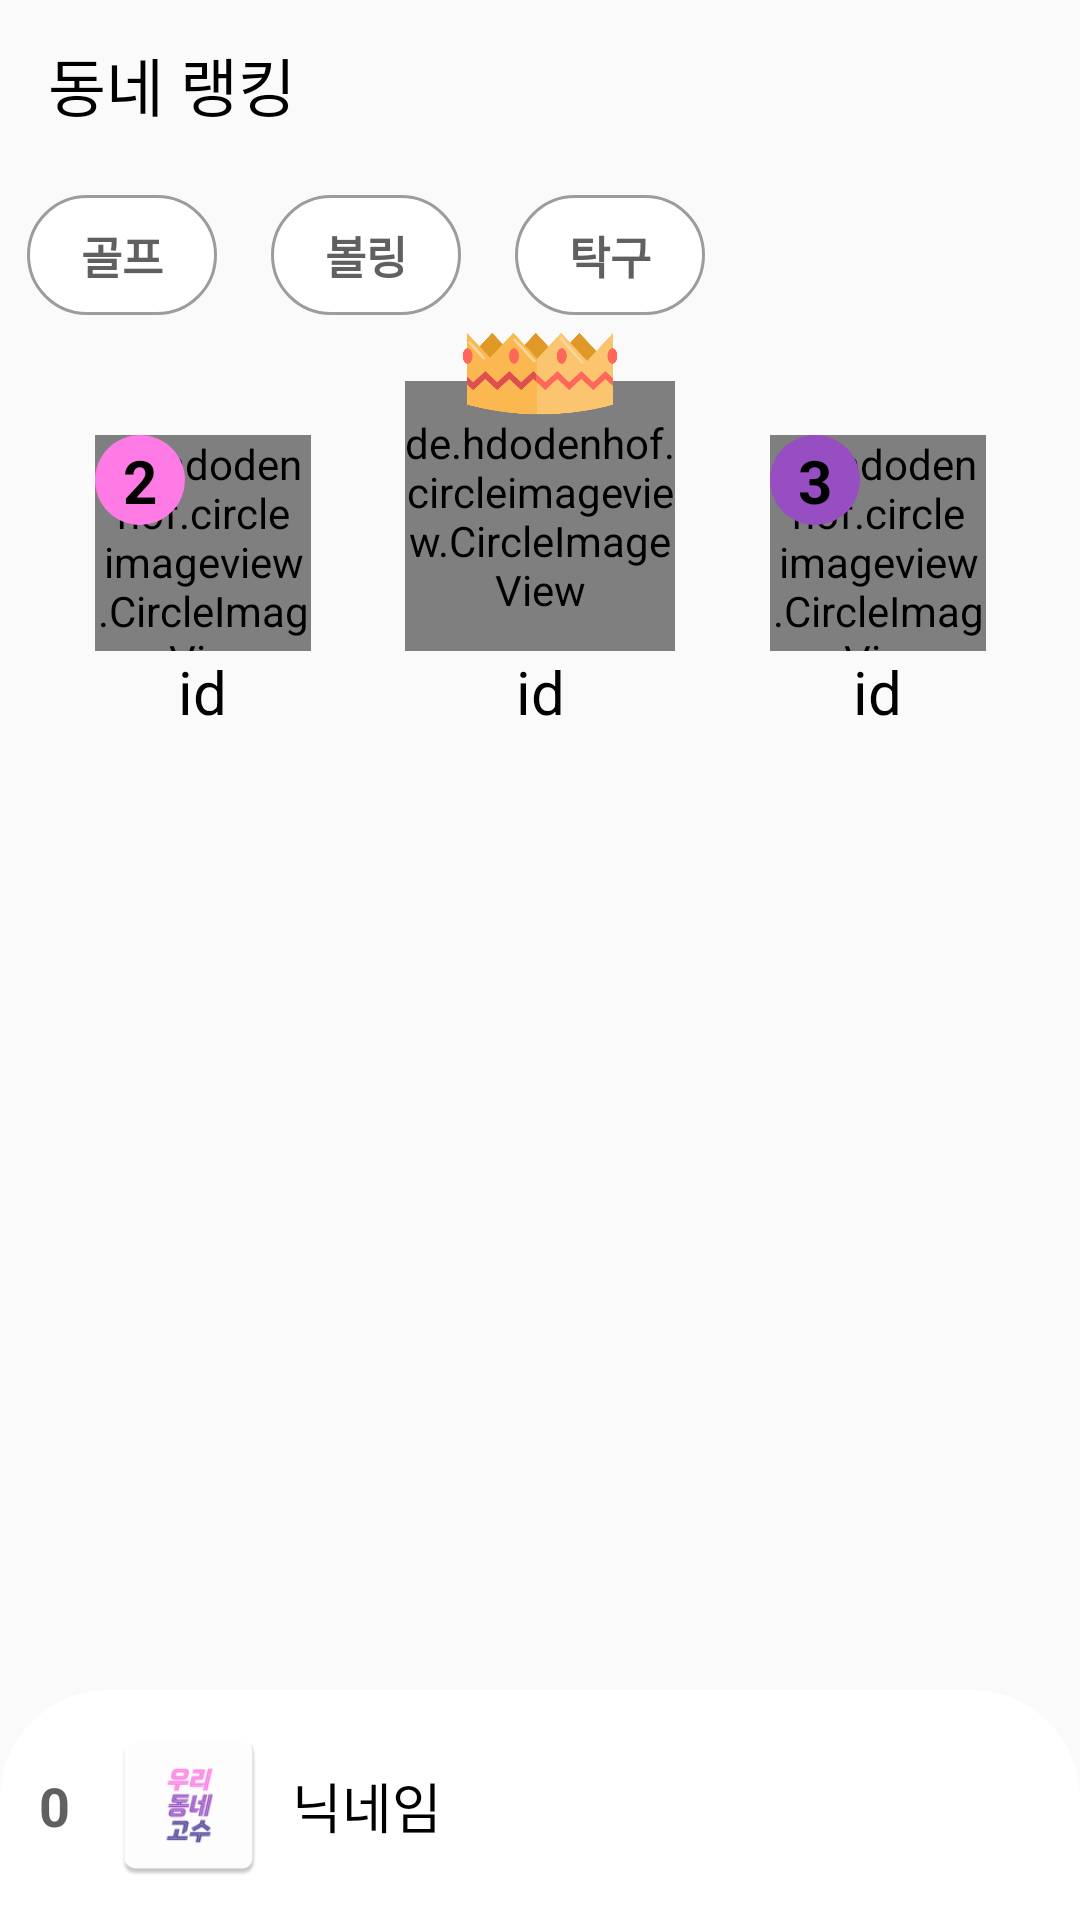

Screen size 1080 × 1920. Icon name, then its center in pixels as [x,y]:
crown: [540,375]
rank: [140,480], [815,480]
